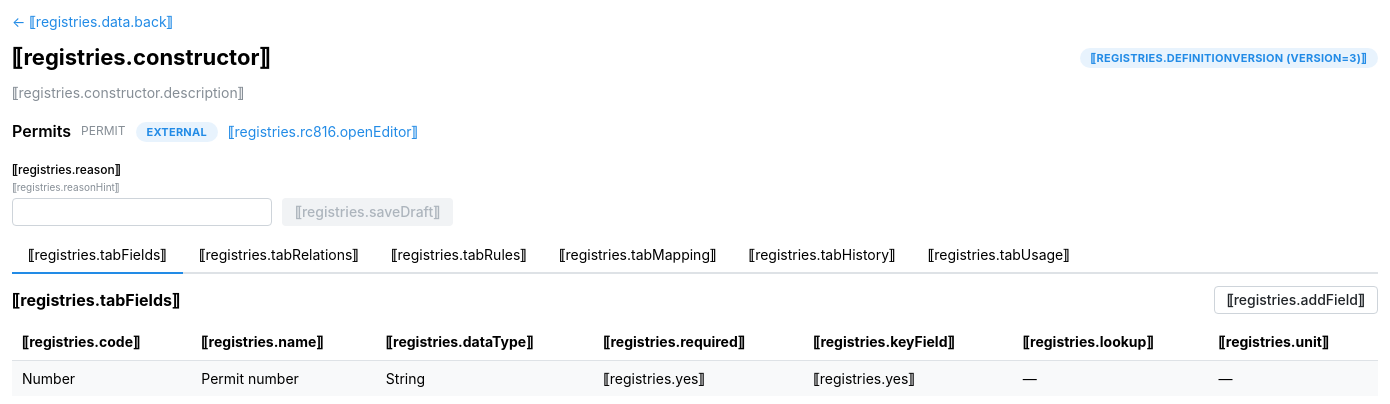
Test: RegistryConstructorPage: вкладки › мапінг є, або довідник зовнішній — вкладка лишається з поясненням «лише читання»
The width and height of the screenshot is (1390, 404).
What coordinates should you click on to do the following:
click the tab "⟦registries.tabMapping⟧"
I would click on:
 (638, 256)
Its box is x1=543 y1=238 x2=733 y2=274.
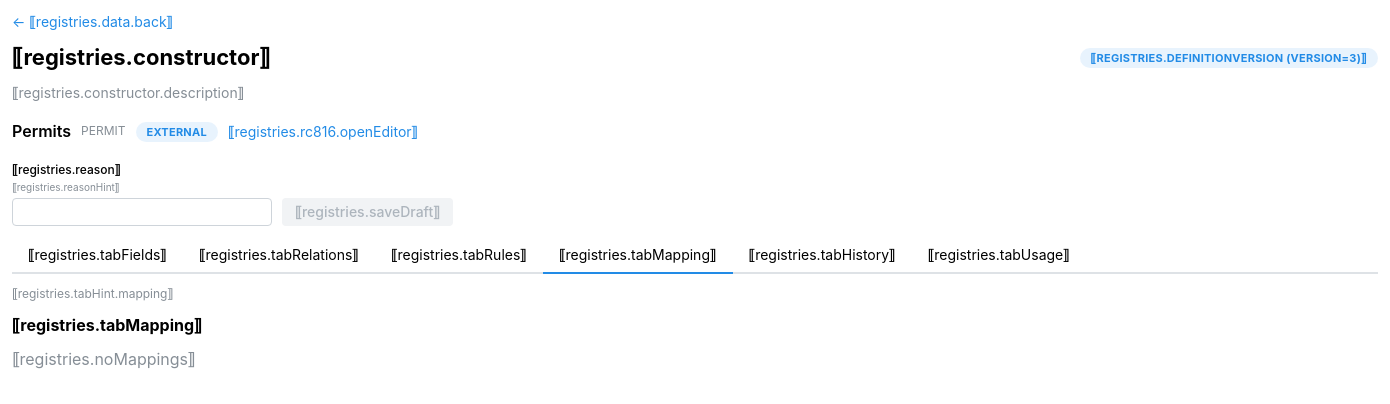
Expected: the text "⟦registries.tabHint.mapping⟧" is shown, x1=12 y1=286 x2=173 y2=301
Expected: the text "⟦registries.noMappings⟧" is shown, x1=12 y1=349 x2=196 y2=369
